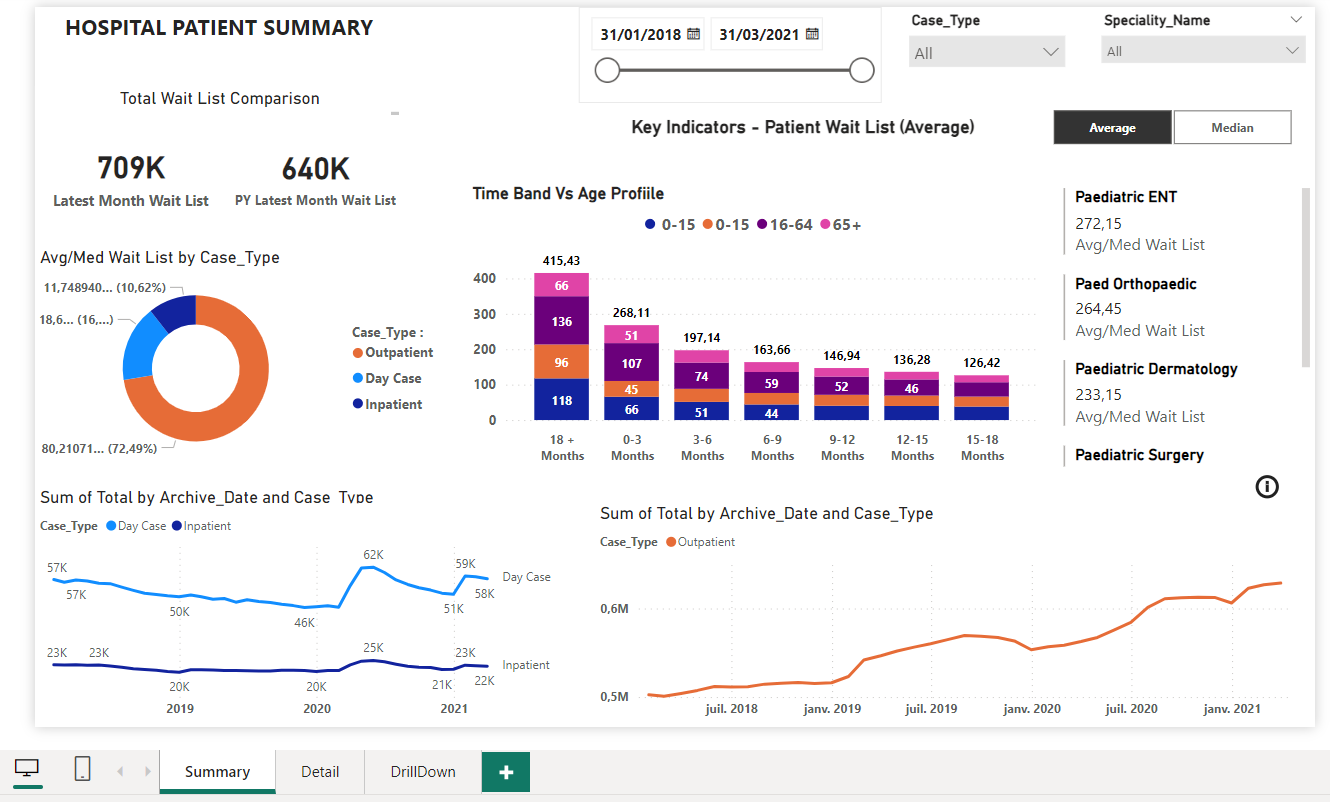

This screenshot's page, from the dashboard's own definition file:
{"tool":"powerbi","page":{"name":"Summary","canvas":[1280,720],"ordinal":0},"visuals":[{"type":"card","fields":{"Values":["All_Data.Latest Month Wait List"]},"box":[0,112,192,112],"z":0},{"type":"card","fields":{"Values":["All_Data.PY Latest Month Wait List"]},"box":[192,112,176,112],"z":1000},{"type":"slicer","fields":{"Values":["Calculation Method.Calc Method"]},"box":[992,96,288,48],"z":2000},{"type":"donutChart","fields":{"Category":["All_Data.Case_Type"],"Y":["All_Data.Avg/Med Wait List"]},"box":[0,240,416,224],"z":3000},{"type":"columnChart","title":"Time Band Vs Age Profiile","fields":{"Y":["All_Data.Avg/Med Wait List"],"Category":["All_Data.Time_Bands"],"Series":["All_Data.Age_Profile"]},"box":[432,176,576,288],"z":4000},{"type":"multiRowCard","fields":{"Values":["All_Data.Avg/Med Wait List","All_Data.Speciality_Name"]},"box":[1024,176,256,288],"z":5000},{"type":"card","fields":{"Values":["All_Data.NoDataRight"]},"box":[912,496,256,48],"z":5500},{"type":"lineChart","fields":{"Category":["All_Data.Archive_Date"],"Y":["Sum(All_Data.Total)"],"Series":["All_Data.Case_Type"]},"box":[0,480,528,240],"z":6000},{"type":"card","fields":{"Values":["All_Data.NoDataLeft"]},"box":[208,496,272,32],"z":6500},{"type":"lineChart","fields":{"Category":["All_Data.Archive_Date"],"Y":["Sum(All_Data.Total)"],"Series":["All_Data.Case_Type"]},"box":[560,496,720,224],"z":7000},{"type":"slicer","fields":{"Values":["All_Data.Archive_Date"]},"box":[544,0,304,96],"z":8000},{"type":"slicer","fields":{"Values":["All_Data.Case_Type"]},"box":[864,0,176,96],"z":9000},{"type":"slicer","fields":{"Values":["All_Data.Speciality_Name"]},"box":[1056,0,224,96],"z":10000},{"type":"textbox","box":[0,0,368,64],"z":11000},{"type":"textbox","title":"Total Wait List Comparison","box":[0,80,368,32],"z":12000},{"type":"card","fields":{"Values":["All_Data.Dynamic Title"]},"box":[560,96,416,48],"z":13000},{"type":"actionButton","box":[1216,464,48,32],"z":13001}]}

Visuals, with their boxes on the page's 1280x720 design canvas (x1, y1, x2, y2). These are canvas units, not pixel positions in the 1330x802 screenshot, which may show the page scaled, cropped or inside an application window:
card - All_Data.Latest Month Wait List: bbox=[0, 112, 192, 224]
card - All_Data.PY Latest Month Wait List: bbox=[192, 112, 368, 224]
slicer - Calculation Method.Calc Method: bbox=[992, 96, 1280, 144]
donutChart - All_Data.Case_Type x All_Data.Avg/Med Wait List: bbox=[0, 240, 416, 464]
"Time Band Vs Age Profiile" columnChart: bbox=[432, 176, 1008, 464]
multiRowCard - All_Data.Avg/Med Wait List x All_Data.Speciality_Name: bbox=[1024, 176, 1280, 464]
card - All_Data.NoDataRight: bbox=[912, 496, 1168, 544]
lineChart - All_Data.Archive_Date x Sum(All_Data.Total): bbox=[0, 480, 528, 720]
card - All_Data.NoDataLeft: bbox=[208, 496, 480, 528]
lineChart - All_Data.Archive_Date x Sum(All_Data.Total): bbox=[560, 496, 1280, 720]
slicer - All_Data.Archive_Date: bbox=[544, 0, 848, 96]
slicer - All_Data.Case_Type: bbox=[864, 0, 1040, 96]
slicer - All_Data.Speciality_Name: bbox=[1056, 0, 1280, 96]
textbox: bbox=[0, 0, 368, 64]
"Total Wait List Comparison" textbox: bbox=[0, 80, 368, 112]
card - All_Data.Dynamic Title: bbox=[560, 96, 976, 144]
actionButton: bbox=[1216, 464, 1264, 496]
